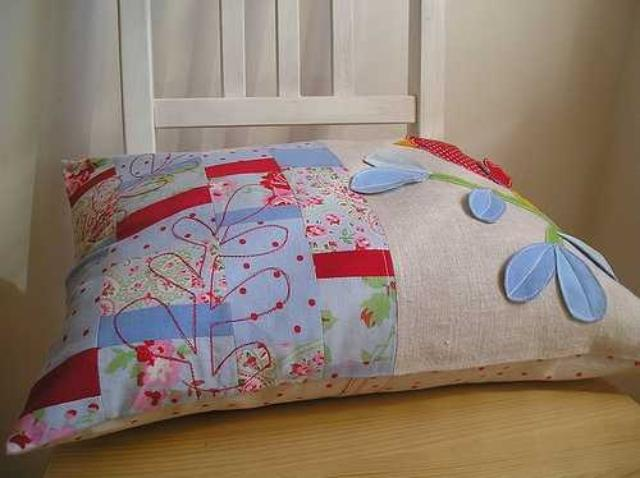pillow: (4, 136, 638, 456)
